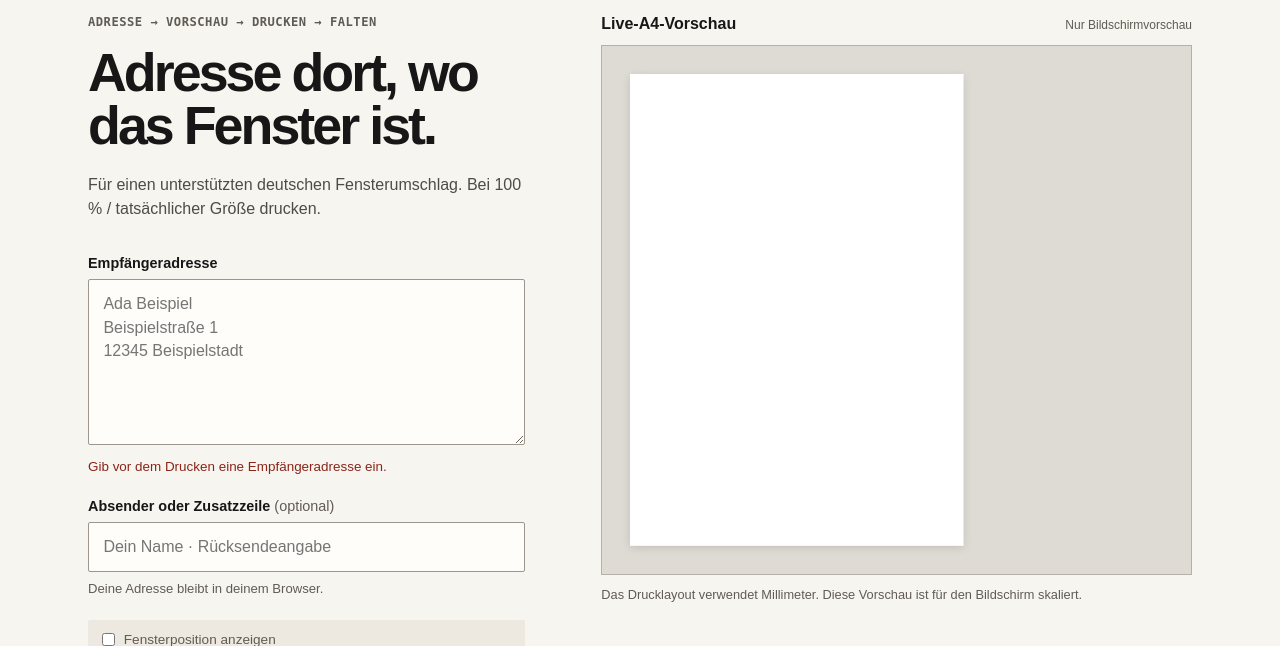
Scenario: WindowFit V0.1 protected baseline & V0.2 extensions › provides screen-only folding guidance that does not contaminate print output
Type "Ada Beispiel" into the text box labelled "Empfängeradresse" at (306, 362), box [88, 278, 524, 445]
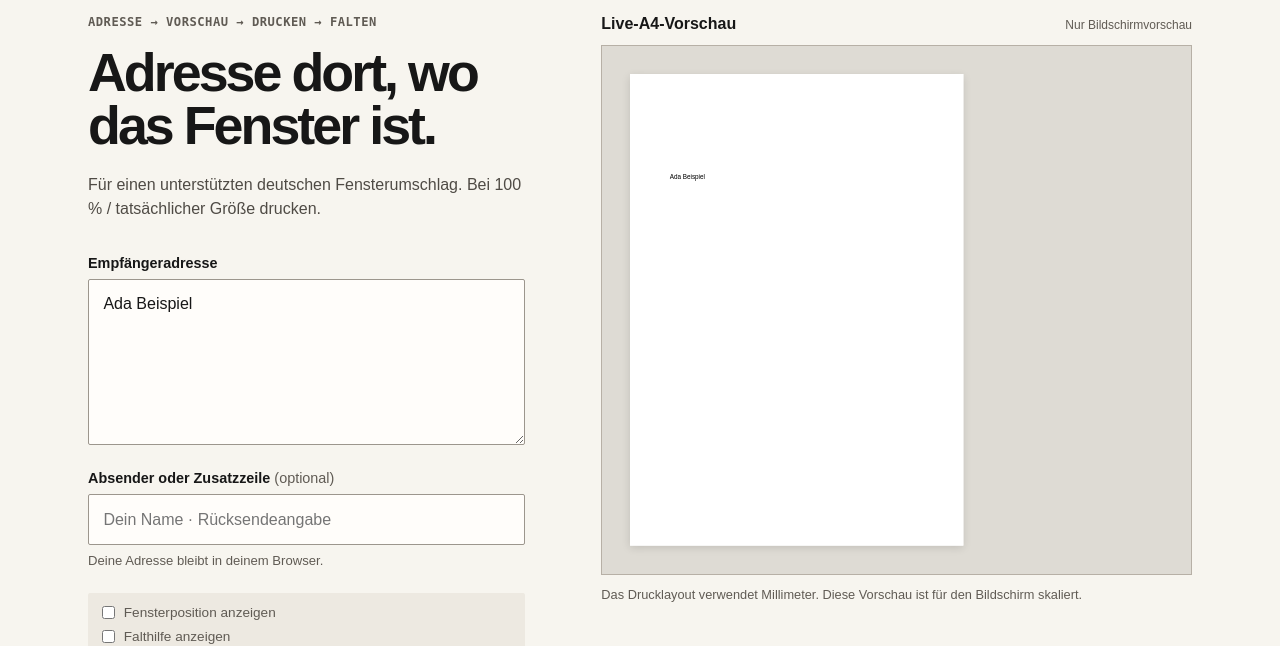
Click the checkbox labelled "Falthilfe anzeigen" at (108, 636), box [102, 630, 115, 643]
(page scrolled)
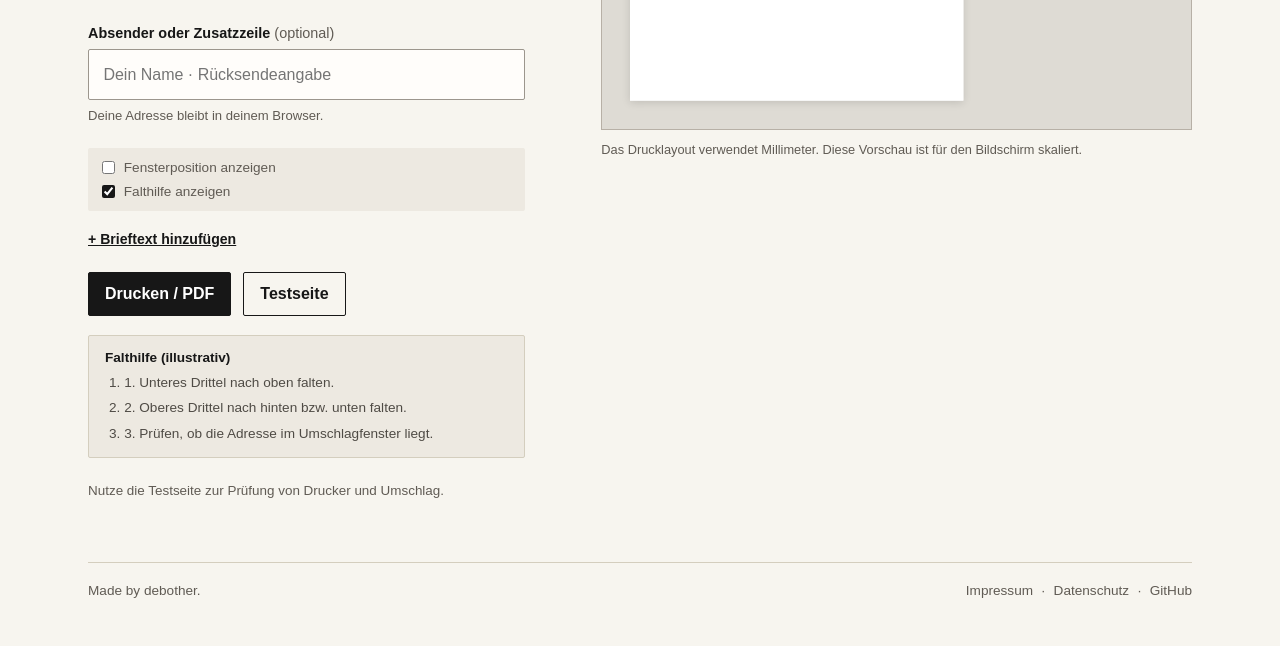
Expected: the element with class "fold-guide-card" is shown, [88, 335, 524, 458]
